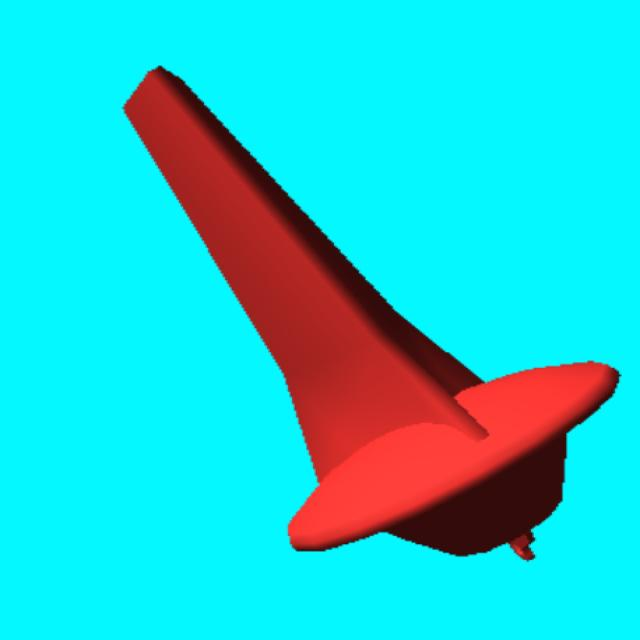RedBuoy: (125, 68, 617, 558)
